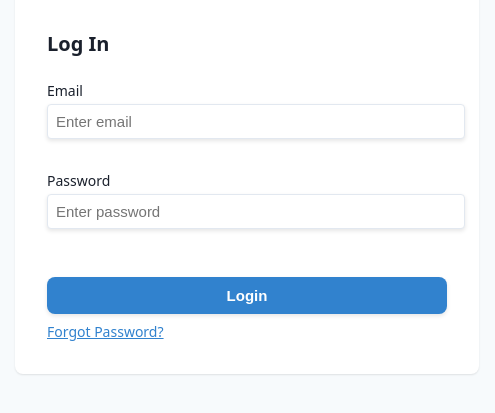
Login Component › shows validation errors on empty form
The image size is (495, 413).
Click the button "Login" at (247, 296), box [47, 277, 447, 314]
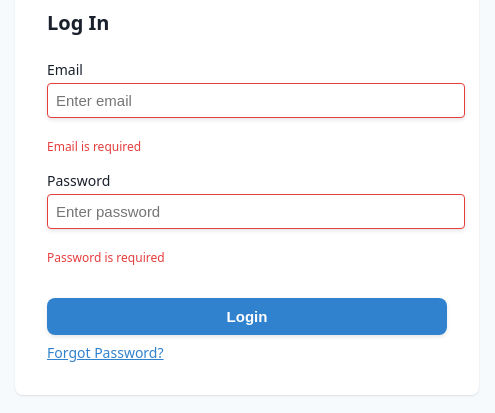
Now the text "Email is required" is shown, box [47, 138, 141, 155]
Now the text "Password is required" is shown, box [47, 249, 165, 266]
